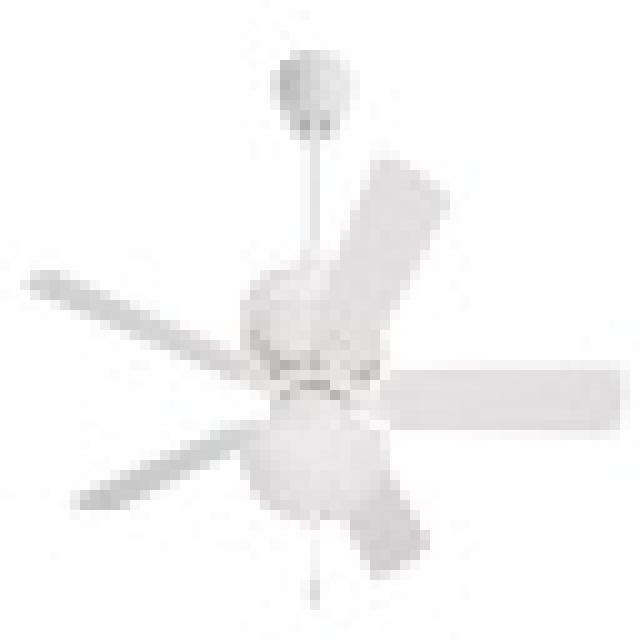Bulb: (10, 180, 640, 550)
